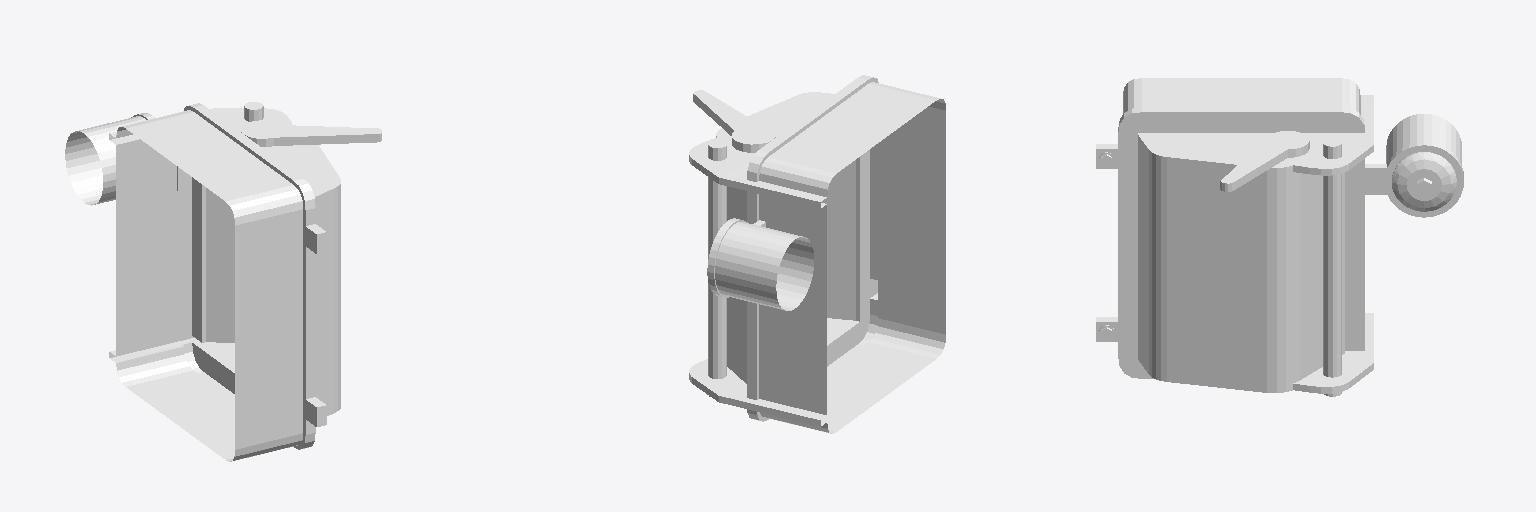
File: electricalboxD.obj
3 views of the same model, side by side, from view 1: azimuth 30°, elevation 25°; view 2: azimuth 150°, elevation 25°; view 3: azimuth 270°, elevation 25° (orthographic).
Visible parts, largest first — view 1: electricalboxD; view 2: electricalboxD; view 3: electricalboxD.
Part boxes in pixels (x1,y1,x2,y2): electricalboxD: (65, 102, 381, 461); electricalboxD: (689, 75, 945, 433); electricalboxD: (1096, 78, 1463, 396).
Bounding box in the file's own units: 24.18 × 30.95 × 38.75.